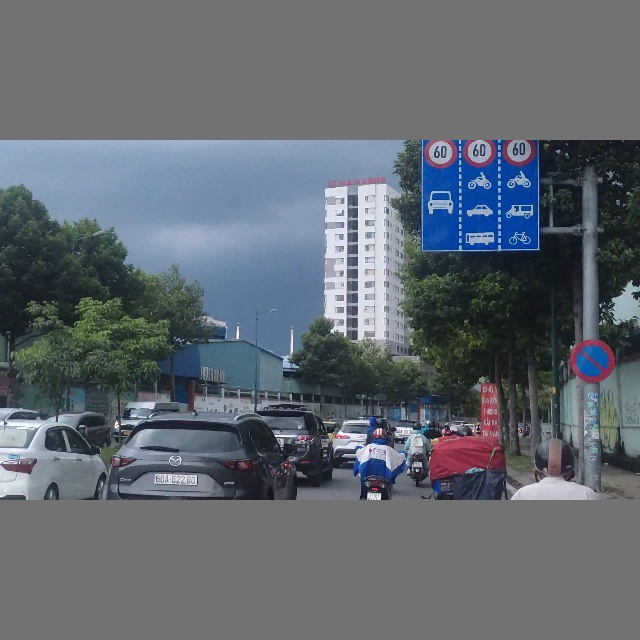P.127*60: (422, 140, 458, 169), (462, 141, 497, 167), (502, 141, 537, 166)
P.131a: (571, 339, 614, 384)
R.415a: (422, 169, 539, 250)
